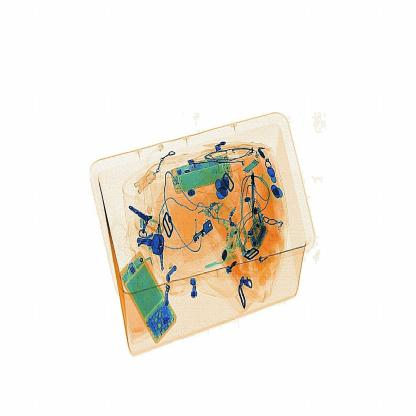knife: (240, 162, 266, 225)
